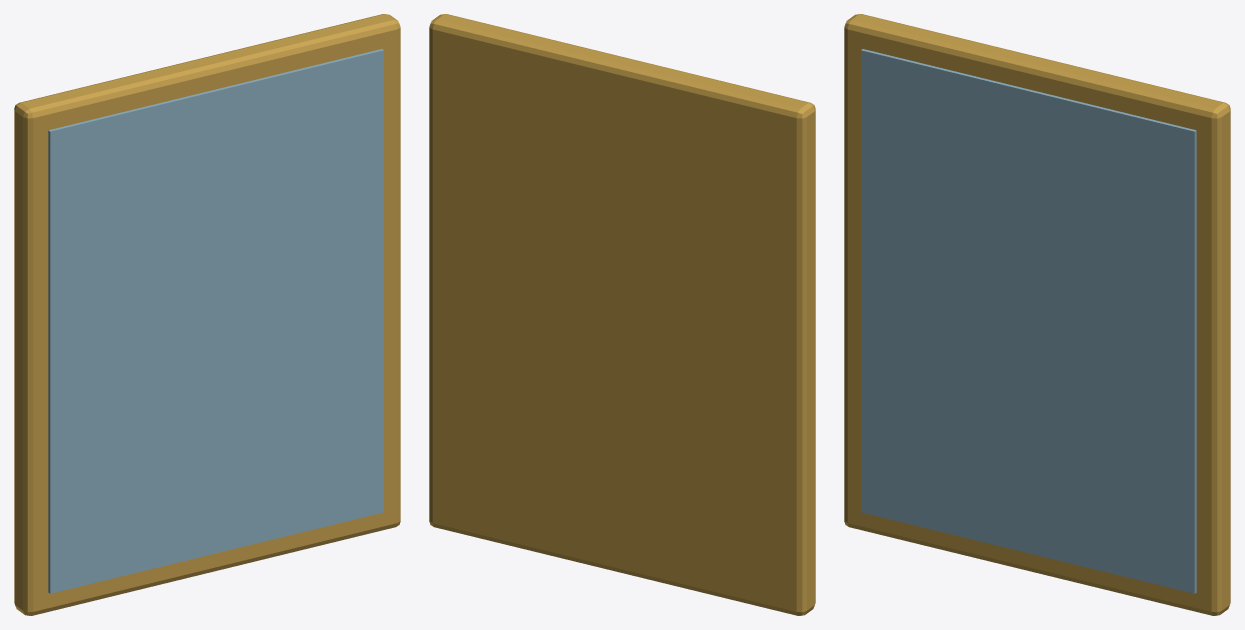
File: hh_old_mirror.glb
The picture shows the model from 3 angles, left to right: view 1: azimuth 30°, elevation 25°; view 2: azimuth 150°, elevation 25°; view 3: azimuth 330°, elevation 25°; orthographic projection.
Visible parts, largest first — view 1: glass, frame; view 2: frame; view 3: glass, frame.
Part boxes in pixels (<box>): glass: <box>48,49,383,593</box>; frame: <box>14,14,400,615</box>; frame: <box>429,14,815,615</box>; glass: <box>861,49,1196,593</box>; frame: <box>844,14,1230,615</box>.
Size of the model in its own units: 0.7 by 0.9 by 0.056.
